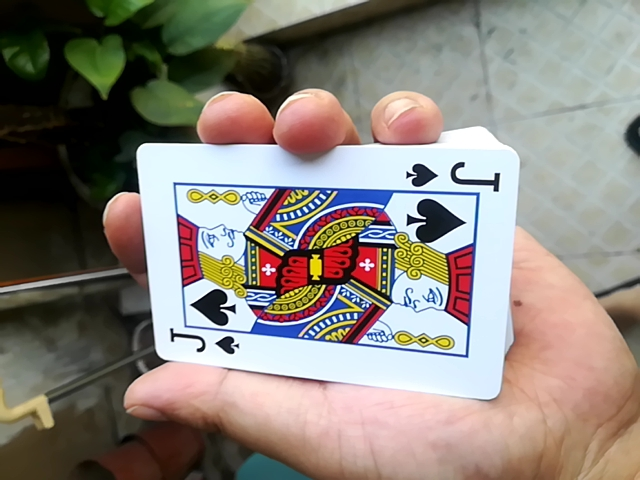ht j: (133, 113, 497, 401)
